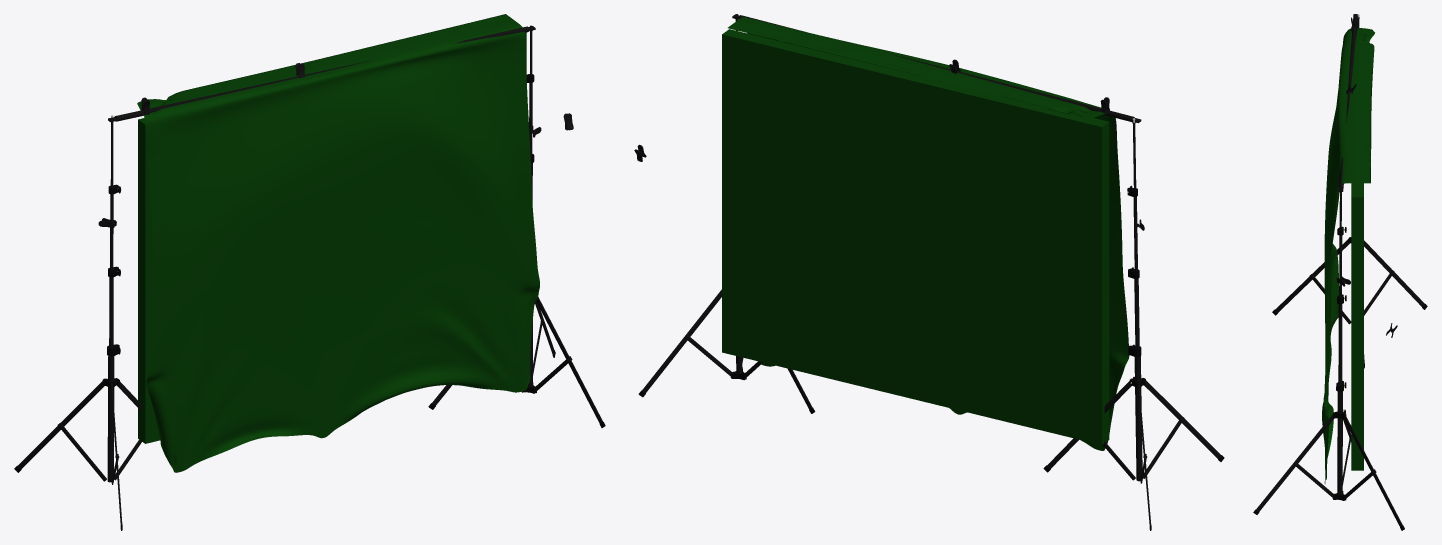
3 renders of one model, left to right at view 1: azimuth 30°, elevation 25°; view 2: azimuth 150°, elevation 25°; view 3: azimuth 270°, elevation 25°, orthographic. The views are drawn at different scales.
Visible parts, largest first — view 1: Plane_008; view 2: Plane_008; view 3: Plane_008.
Boxes of the visible parts, bbox=[...] form: Plane_008: bbox=[14, 14, 605, 530]; Plane_008: bbox=[634, 14, 1224, 530]; Plane_008: bbox=[1253, 14, 1427, 530].
Size of the model in its own units: 299 by 205 by 98.15.
